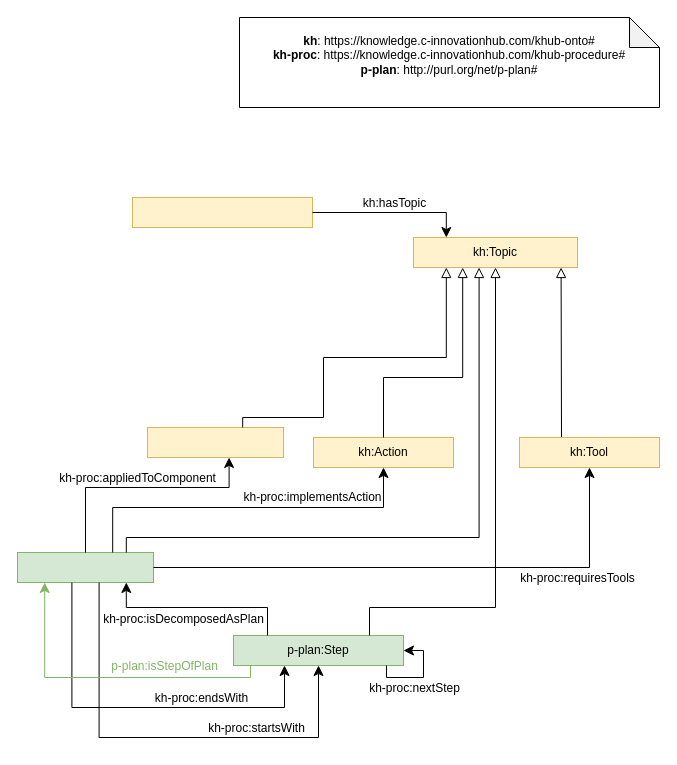
The diagram is 677 pixels wide and 765 high, and some of its shapes have lost their labels. Here are the shapes that lost their labels. From the top down, the centre of each, then its label:
At point 222,212: "kh:TopicAnnotation".
At point 215,442: "kh:Component".
At point 85,567: "p-plan:Plan".
